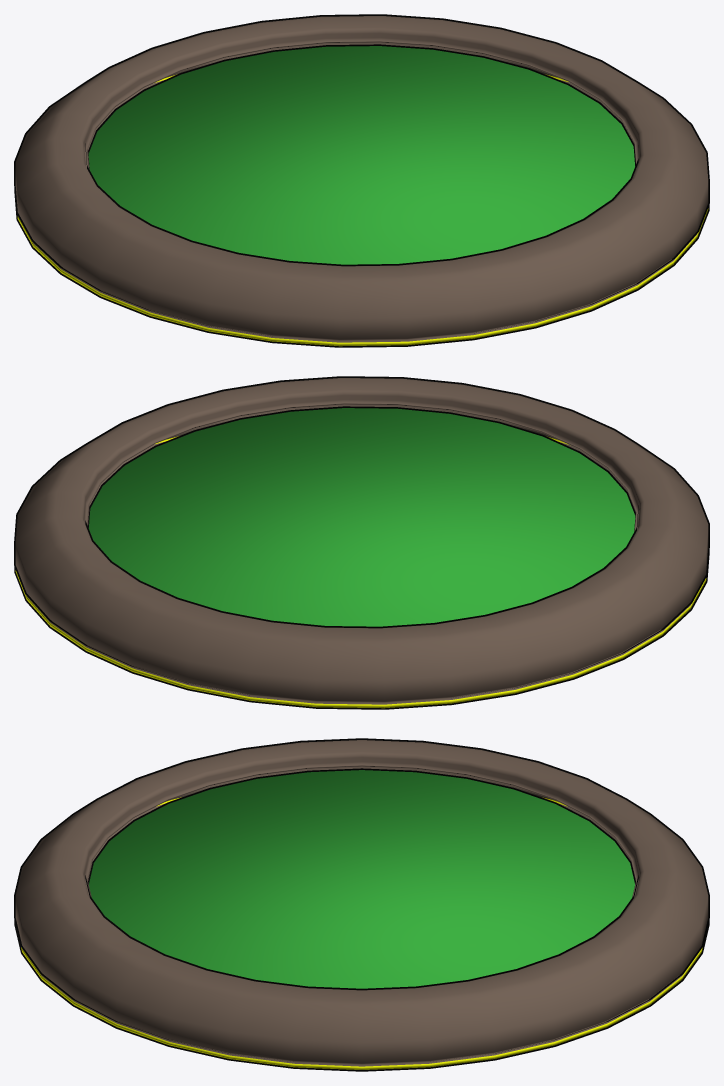
The picture shows the model from 3 angles, top to bottom: view 1: azimuth 30°, elevation 25°; view 2: azimuth 150°, elevation 25°; view 3: azimuth 270°, elevation 25°; orthographic projection.
Visible parts, largest first — view 1: Cylinder.001, Cylinder; view 2: Cylinder.001, Cylinder; view 3: Cylinder.001, Cylinder.
Boxes of the visible parts, x1,y1,x2,y2 form: Cylinder.001: (88, 44, 635, 264); Cylinder: (14, 14, 709, 347); Cylinder.001: (88, 406, 635, 626); Cylinder: (14, 376, 709, 709); Cylinder.001: (88, 768, 635, 988); Cylinder: (14, 738, 709, 1071).
Bounding box in the file's own units: 201 × 17.6 × 201.
